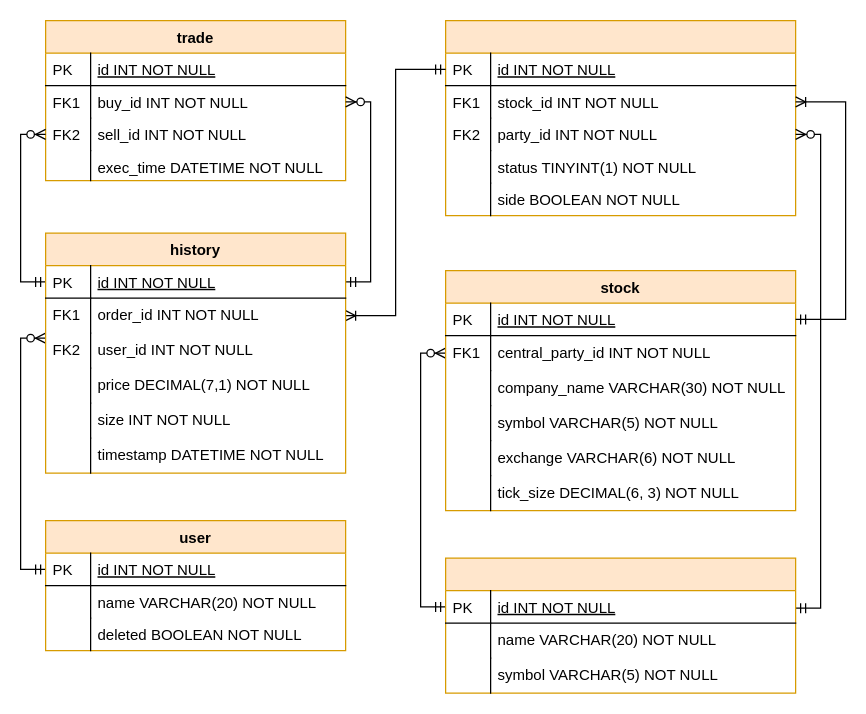
Some shapes in this 866 by 714 pixel diagram are drawn without their labels. The shapes that lost their labels are listed below. From the top down, each one's box as (x1, y1, x2, y2) in pixels, then its label:
(444, 19, 796, 216): order
(444, 557, 796, 693): party
